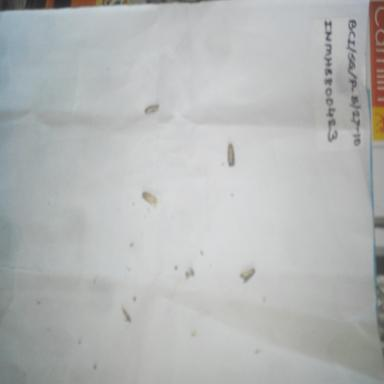pbw: (138, 186, 162, 214), (222, 140, 238, 170), (143, 99, 164, 119), (238, 266, 259, 282), (118, 306, 134, 326)
